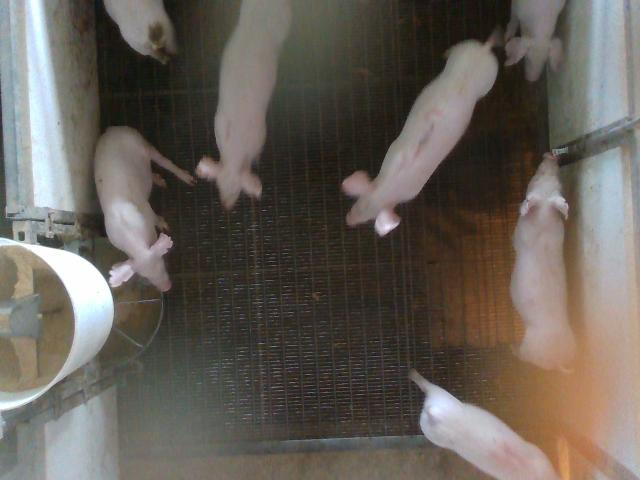pig-3: (342, 32, 501, 236)
pig-4: (409, 369, 559, 479)
